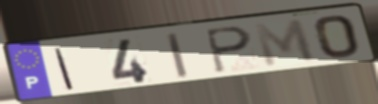0: (312, 14, 364, 60)
4: (109, 36, 152, 86)
I: (165, 31, 192, 80), (52, 46, 77, 92)
M: (251, 17, 319, 70)
P: (203, 25, 255, 76)
